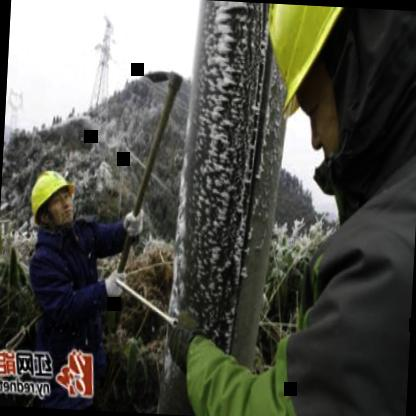helmet: (246, 2, 412, 186), (24, 164, 82, 233)
